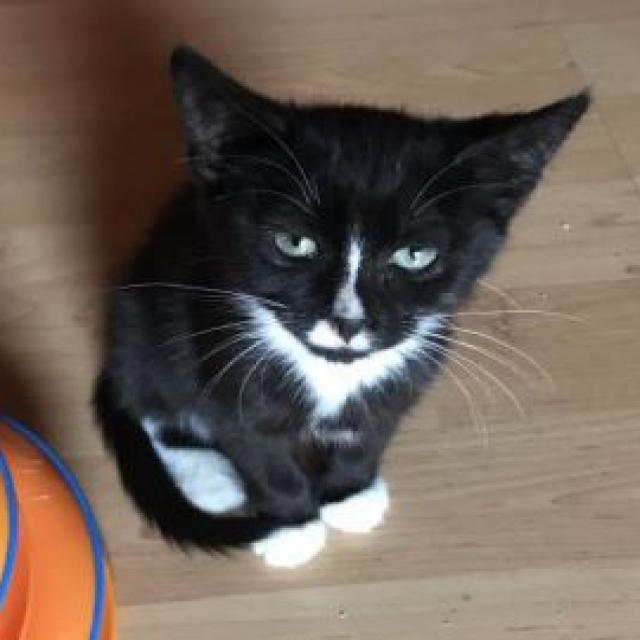Tuxedo: (85, 33, 596, 573)
